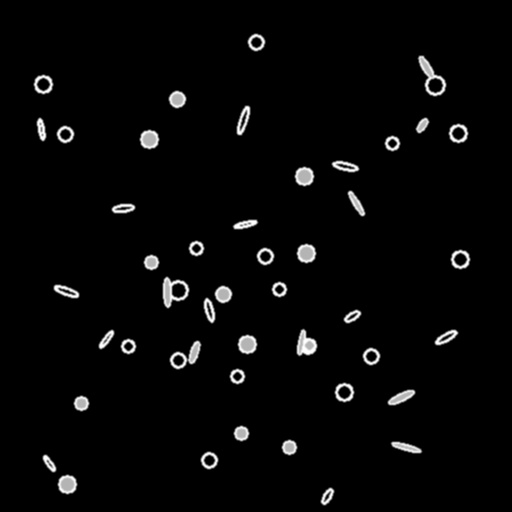pseudomonas: (387, 388, 415, 406), (235, 105, 251, 135), (347, 191, 365, 215), (417, 55, 435, 79), (391, 441, 421, 453), (435, 329, 457, 345), (187, 340, 201, 364), (54, 284, 78, 298), (98, 329, 114, 349), (203, 298, 215, 322), (41, 454, 57, 472), (343, 309, 361, 323), (320, 487, 334, 505), (233, 219, 257, 229), (296, 330, 306, 354), (333, 161, 357, 171), (163, 278, 171, 306), (415, 117, 429, 133), (37, 118, 45, 140), (113, 204, 133, 212)
synechocystis: (169, 281, 187, 299), (426, 76, 444, 94), (35, 76, 51, 92), (239, 336, 255, 352), (452, 251, 468, 267), (450, 125, 466, 141), (298, 245, 314, 261), (141, 131, 157, 147), (296, 168, 312, 184), (59, 476, 75, 492), (336, 384, 352, 400), (58, 127, 72, 141), (301, 339, 315, 353), (170, 92, 184, 106), (171, 353, 185, 367), (202, 453, 216, 467), (216, 287, 230, 301), (249, 35, 263, 49), (364, 349, 378, 363), (258, 249, 272, 263), (283, 441, 295, 453), (75, 397, 87, 409), (235, 427, 247, 439), (122, 340, 134, 352), (303, 339, 315, 351), (386, 137, 398, 149), (190, 242, 202, 254), (145, 256, 157, 268), (273, 283, 285, 295), (231, 370, 243, 382)
